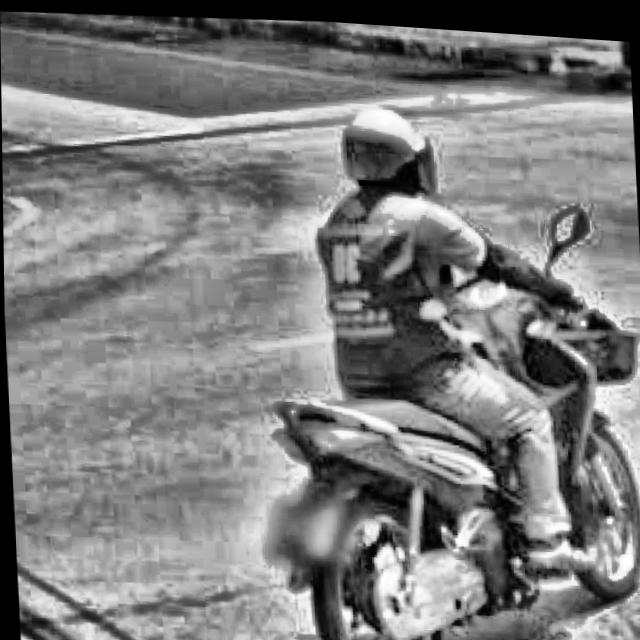motorcycle: (266, 181, 640, 640)
